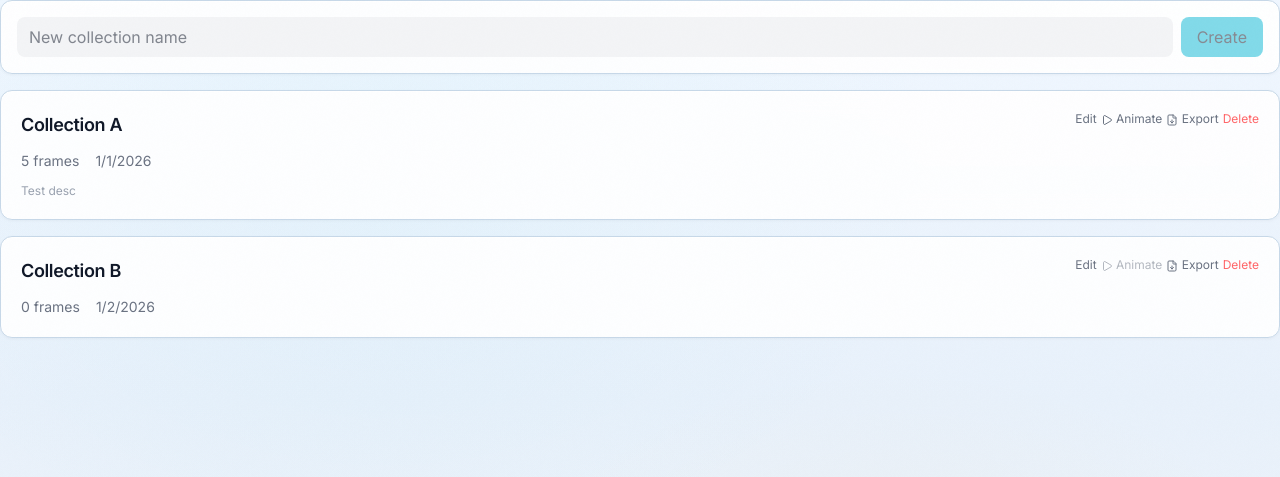
Test case: CollectionsTab extended › cancels edit mode
This screenshot has width=1280, height=477.
Check: the heading "Collection A" is shown, box 21,111 -> 122,139
Click the button "Edit" in the row of "Collection A". click: [1086, 119]
box: 1075,111 -> 1097,127
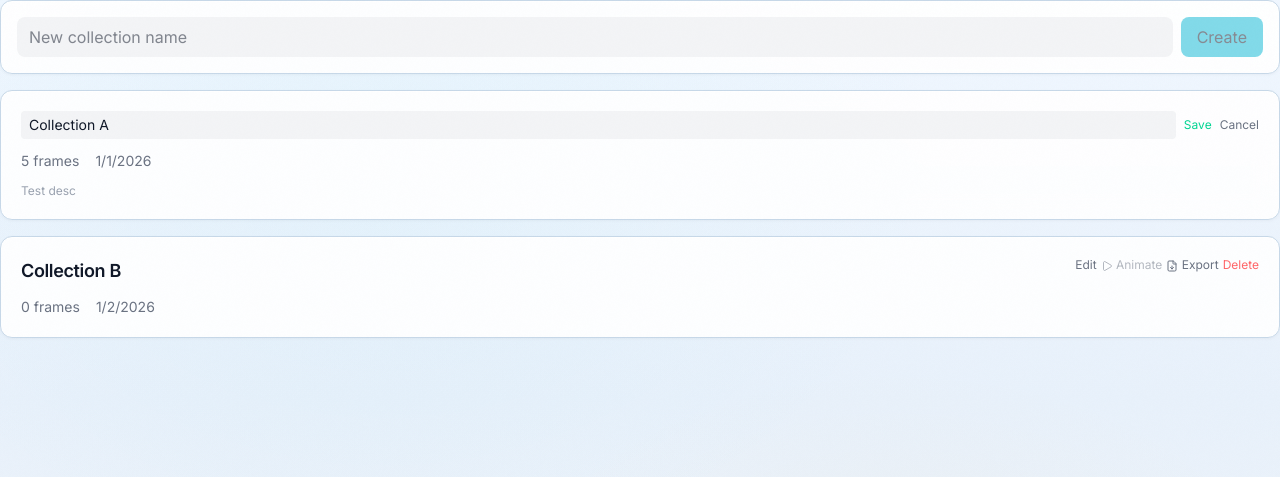
Click the button "Cancel". click: [1239, 125]
box: 1220,111 -> 1259,139
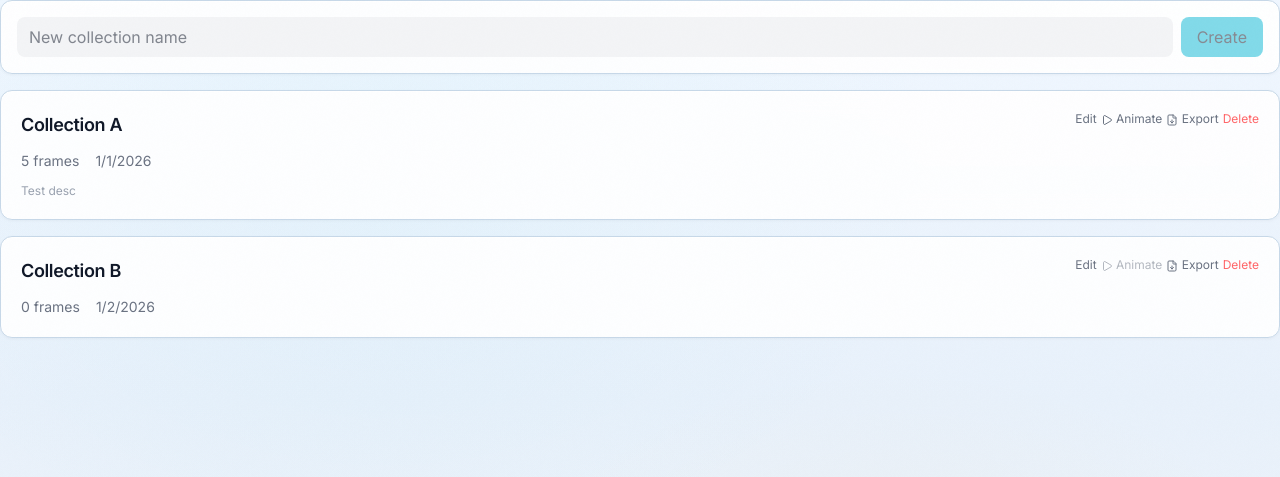
Check: the heading "Collection A" is shown, box 21,111 -> 122,139
